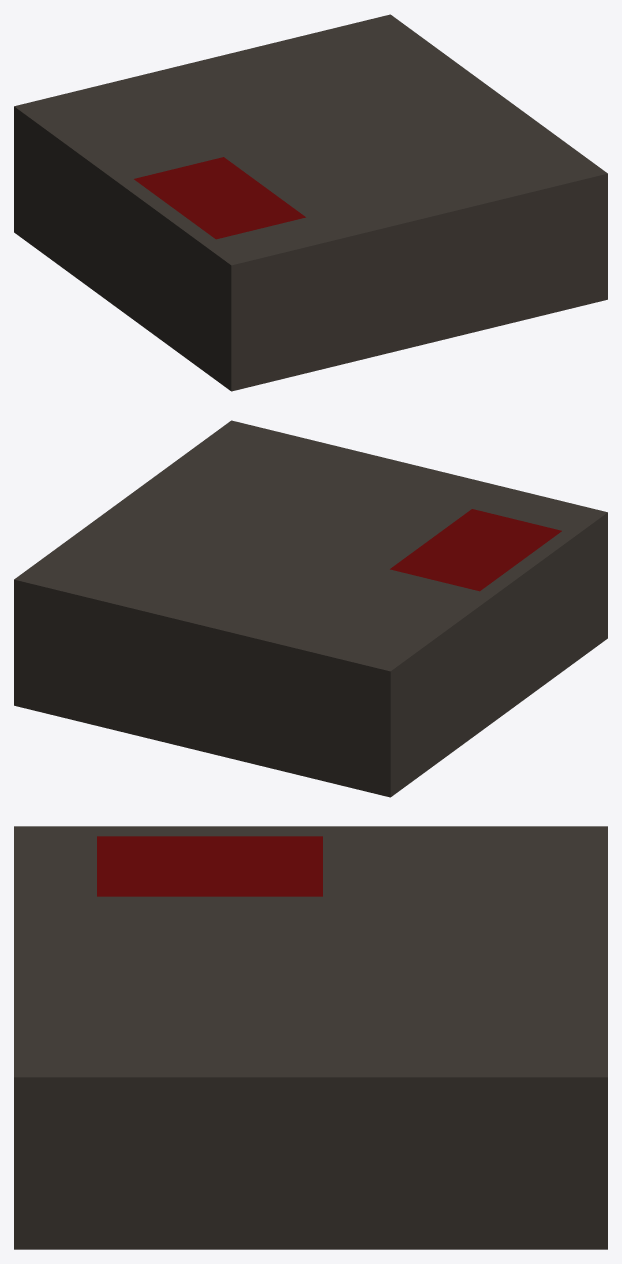
Rendered from Medi Land Chunk.FBX.
The picture shows the model from 3 angles, top to bottom: view 1: azimuth 30°, elevation 25°; view 2: azimuth 150°, elevation 25°; view 3: azimuth 270°, elevation 25°; orthographic projection. The views are drawn at different scales.
Parts seen in each view (by area): view 1: Medi Land Chunk; view 2: Medi Land Chunk; view 3: Medi Land Chunk.
Part boxes in pixels (<box>): Medi Land Chunk: <box>14,14,607,391</box>; Medi Land Chunk: <box>14,420,607,797</box>; Medi Land Chunk: <box>14,826,607,1249</box>.
Size of the model in its own units: 25 by 8 by 25.
